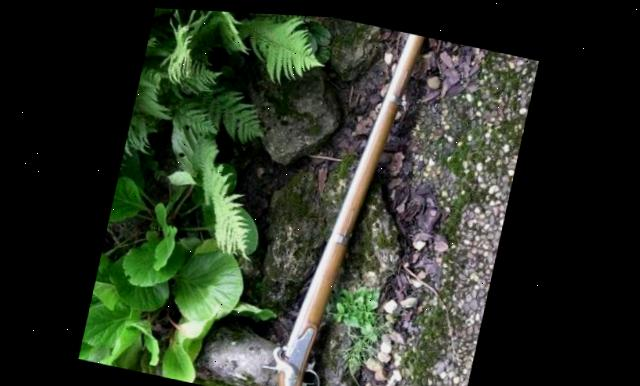rifle: (257, 11, 455, 386)
